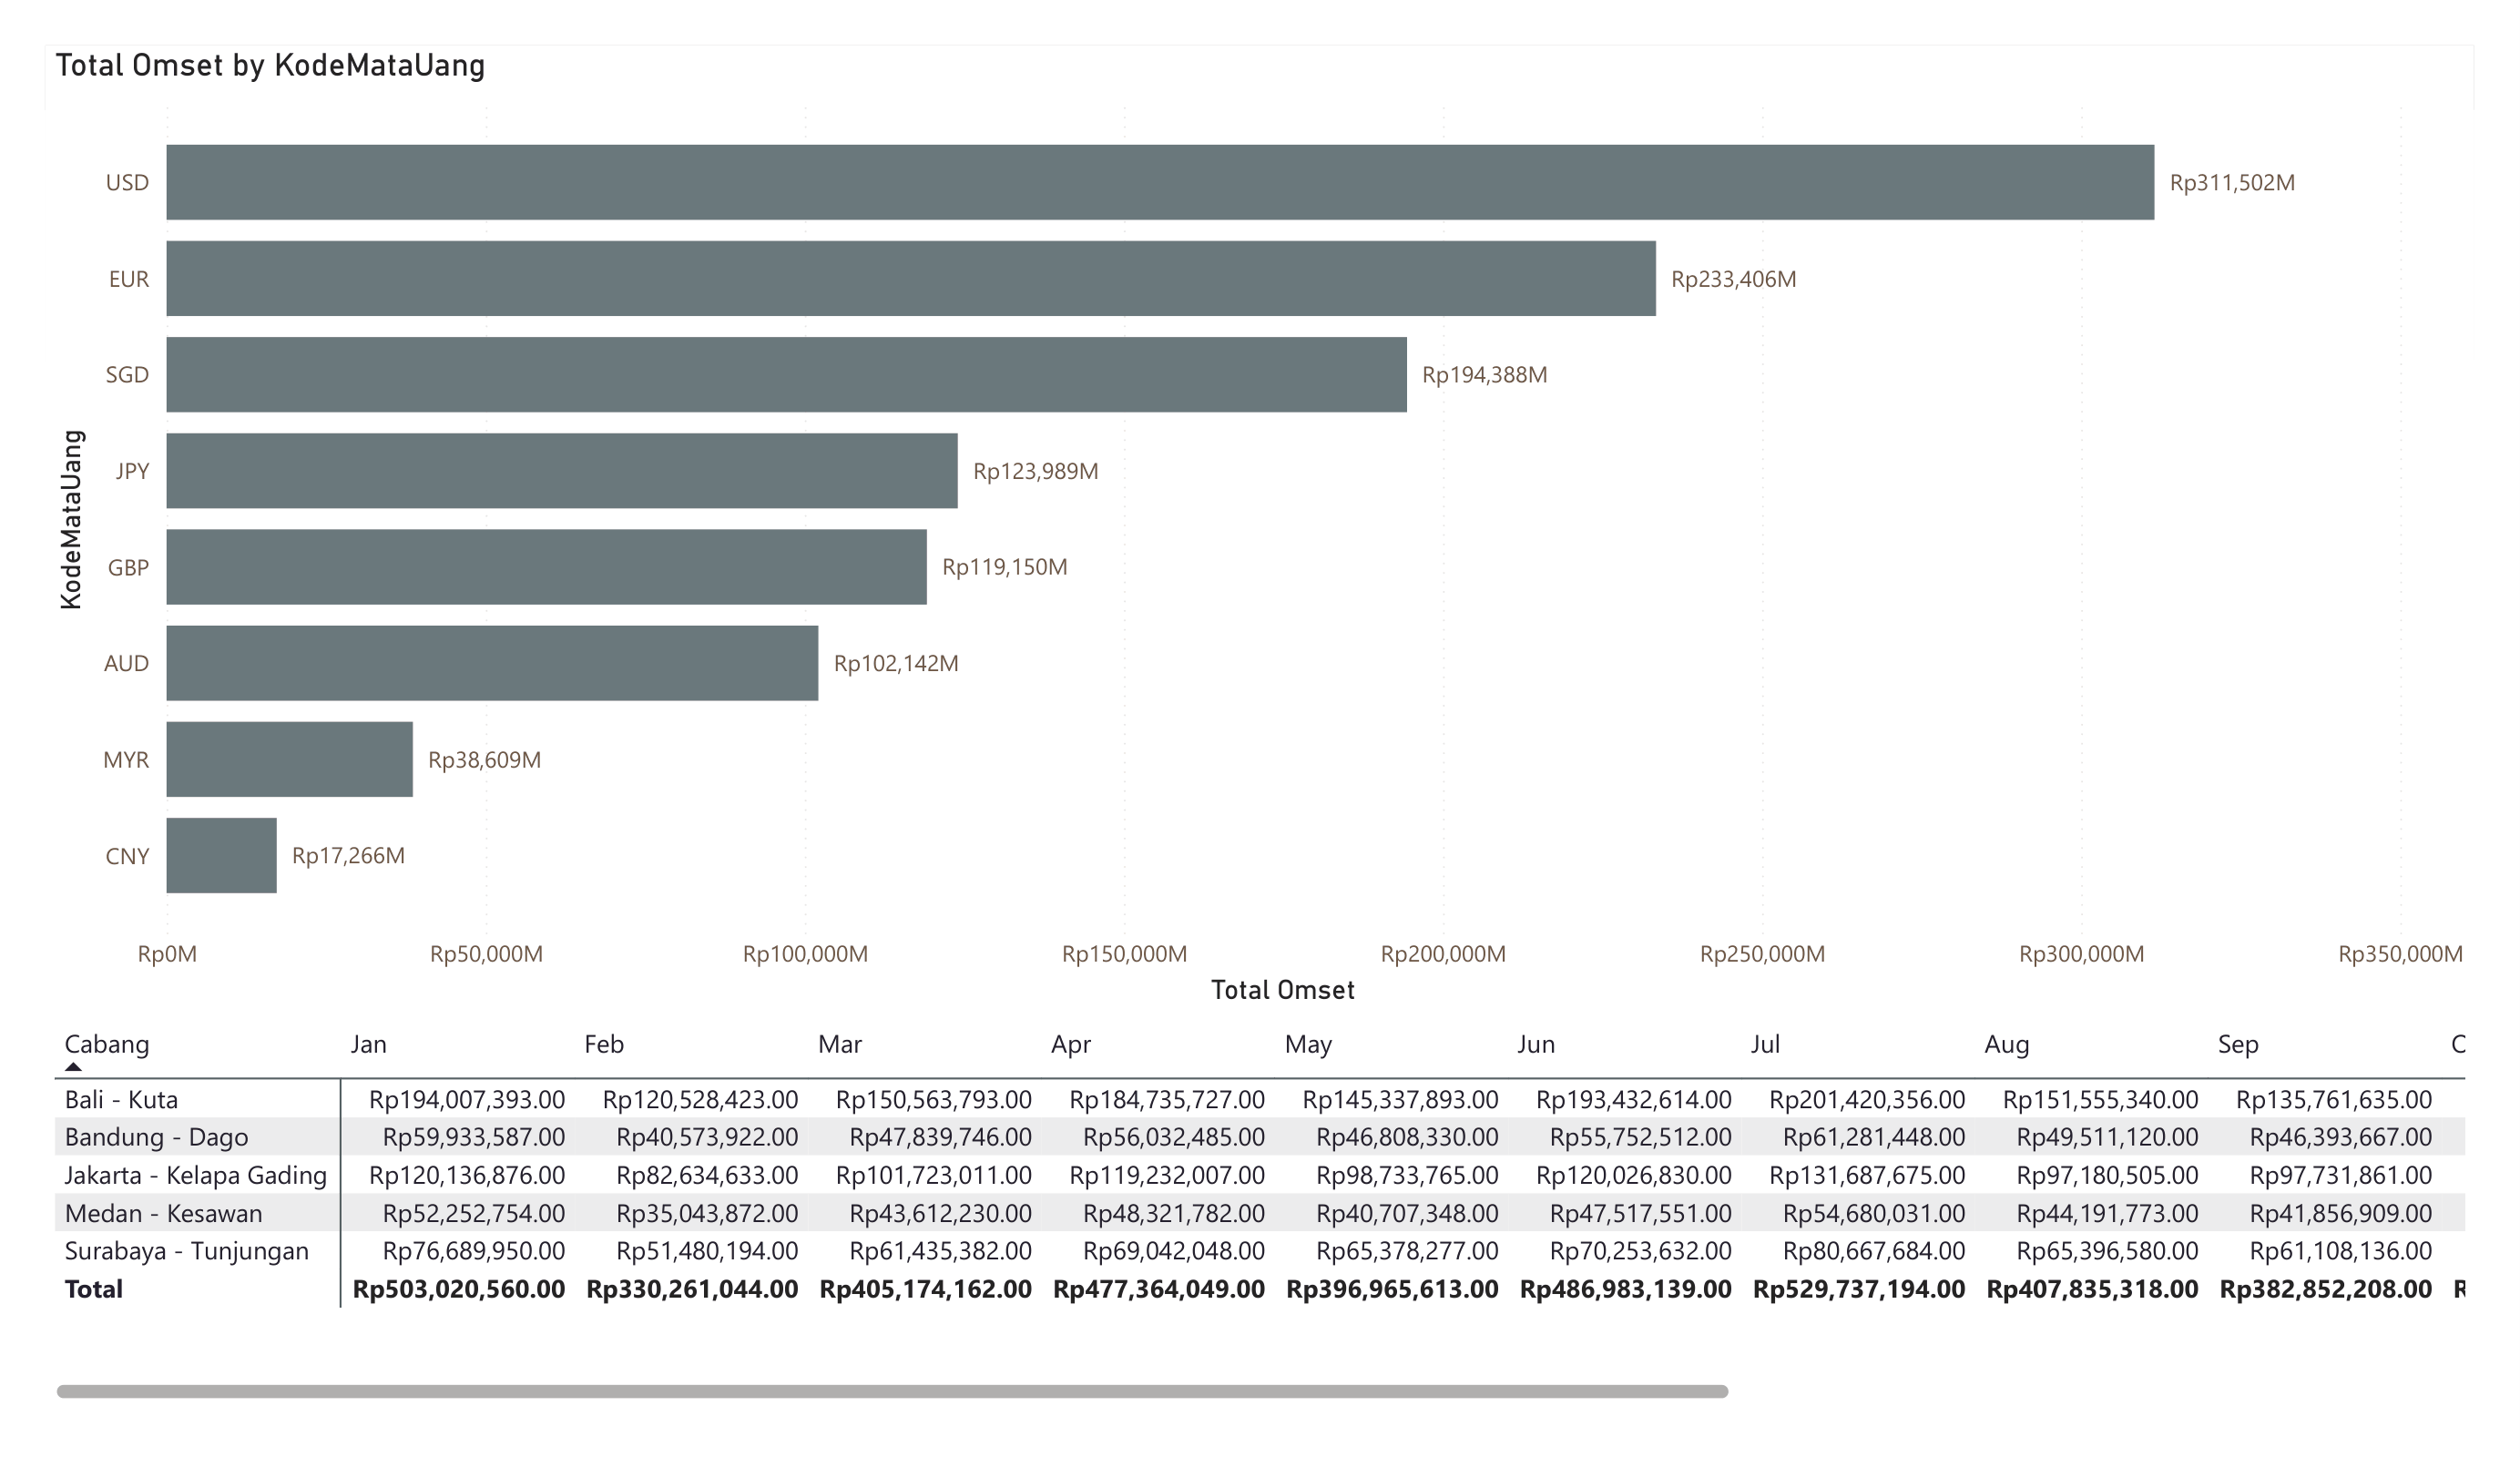

This screenshot's page, from the dashboard's own definition file:
{"tool":"powerbi","page":{"name":"Hal 2","canvas":[1280,720],"ordinal":1},"visuals":[{"type":"clusteredBarChart","fields":{"Category":["DataMataUang.KodeMataUang"],"Y":["TransaksiHarian.Total Omset"]},"box":[0,0,1280,510.8],"z":0},{"type":"pivotTable","fields":{"Rows":["DataCabang.Cabang"],"Columns":["Kalender.Bulan"],"Values":["TransaksiHarian.Total Keuntungan Bersih"]},"box":[0,510.8,1280,208.7],"z":1000}]}

Visuals, with their boxes on the page's 1280x720 design canvas (x1, y1, x2, y2). These are canvas units, not pixel positions in the 2520x1457 screenshot, which may show the page scaled, cropped or inside an application window:
clusteredBarChart - DataMataUang.KodeMataUang x TransaksiHarian.Total Omset: bbox(0, 0, 1280, 511)
pivotTable - DataCabang.Cabang x Kalender.Bulan: bbox(0, 511, 1280, 720)
